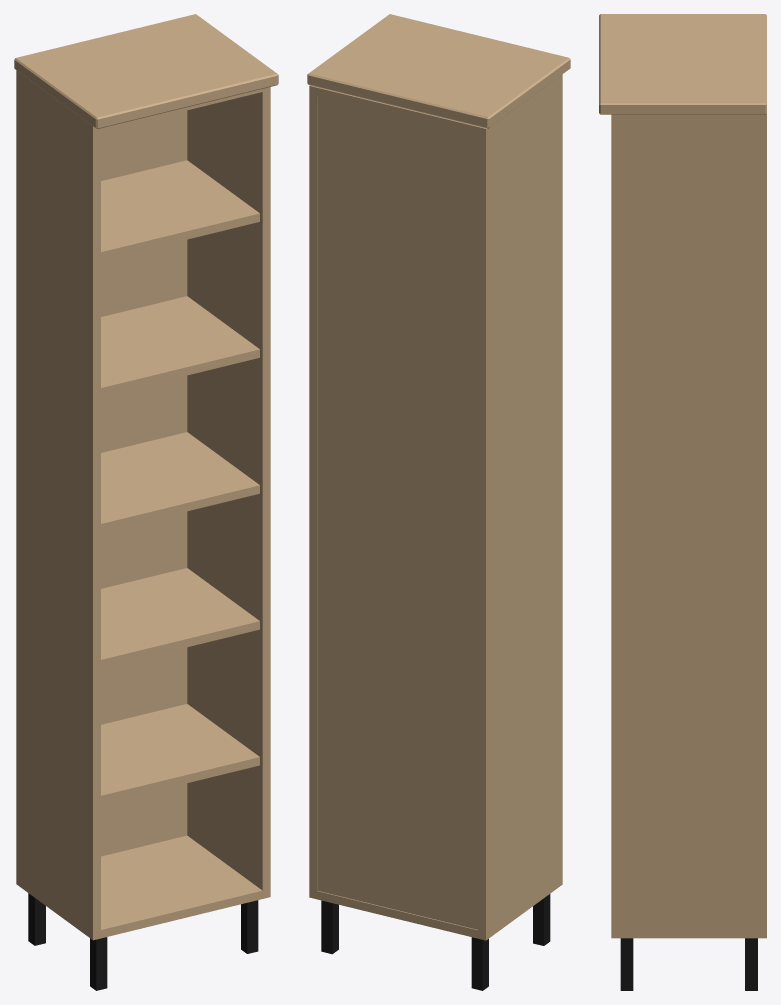
File: 36_regal_40.glb
3 renders of one model, left to right at view 1: azimuth 30°, elevation 25°; view 2: azimuth 150°, elevation 25°; view 3: azimuth 270°, elevation 25°, orthographic.
Parts seen in each view (by area): view 1: Korpus, Wierzch, Nogi; view 2: Korpus, Wierzch, Nogi; view 3: Korpus, Wierzch, Nogi.
Part boxes in pixels (x1=…): Korpus: x1=16, y1=70, x2=270, y2=940; Wierzch: x1=14, y1=14, x2=278, y2=129; Nogi: x1=28, y1=893, x2=258, y2=990; Korpus: x1=309, y1=74, x2=562, y2=940; Wierzch: x1=307, y1=14, x2=570, y2=128; Nogi: x1=321, y1=894, x2=550, y2=990; Korpus: x1=611, y1=113, x2=766, y2=938; Wierzch: x1=599, y1=14, x2=766, y2=114; Nogi: x1=620, y1=938, x2=757, y2=990.
Size of the model in its own units: 0.412 by 1.9 by 0.324.
